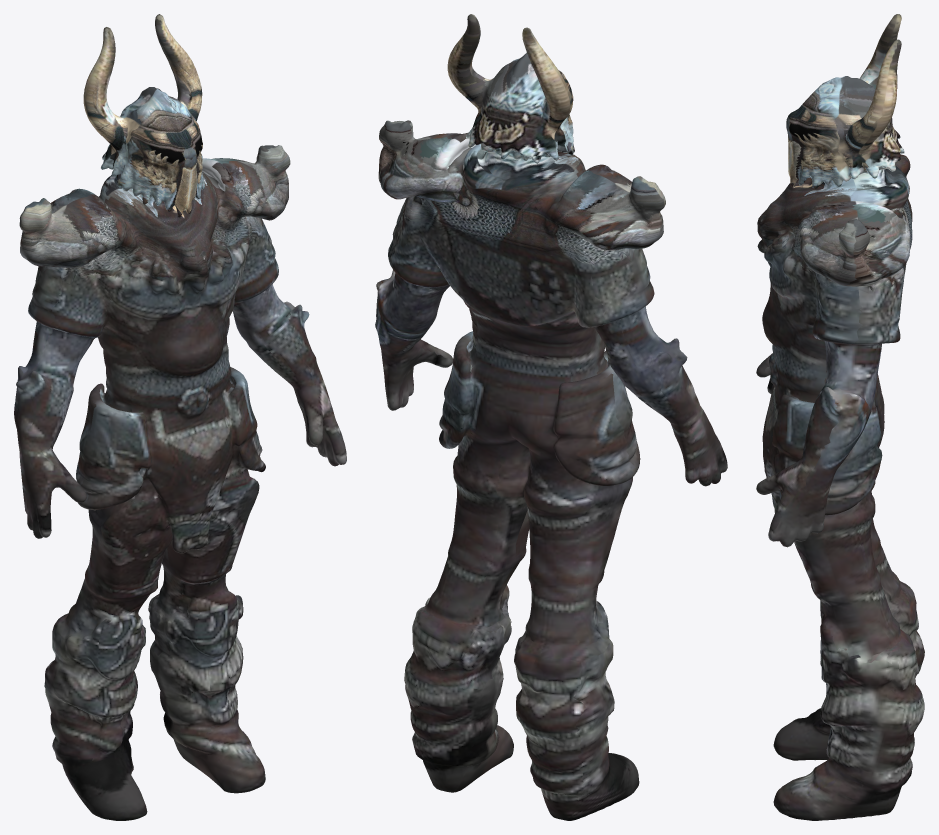
Rendered from captain-vrol-overview-v2.glb.
3 renders of one model, left to right at view 1: azimuth 30°, elevation 25°; view 2: azimuth 150°, elevation 25°; view 3: azimuth 270°, elevation 25°, orthographic. The views are drawn at different scales.
Parts seen in each view (by area): view 1: captain-vrol; view 2: captain-vrol; view 3: captain-vrol.
Boxes of the visible parts, box(x1,y1,x2,y2) form: captain-vrol: box(14, 14, 346, 820); captain-vrol: box(375, 14, 727, 820); captain-vrol: box(756, 14, 924, 820).
Size of the model in its own units: 0.8591 by 1.99 by 0.4039.
Materials: 1 (1 with a texture image).
